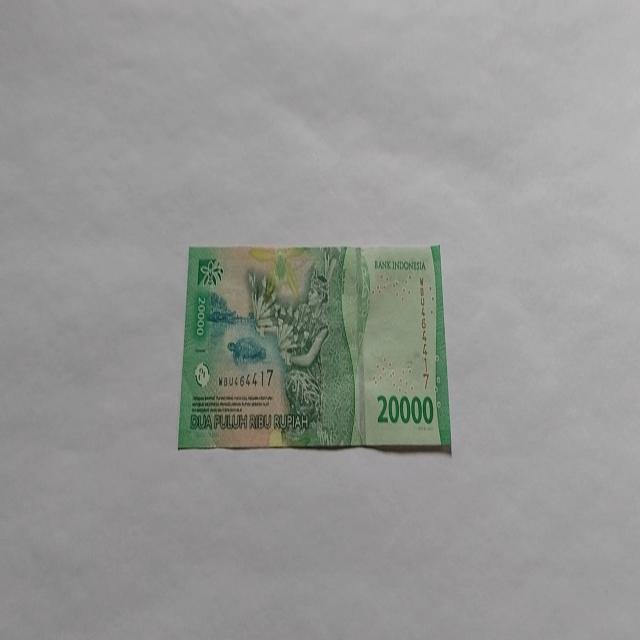dua puluh ribu rupiah: (176, 242, 452, 454), (246, 245, 370, 448)
